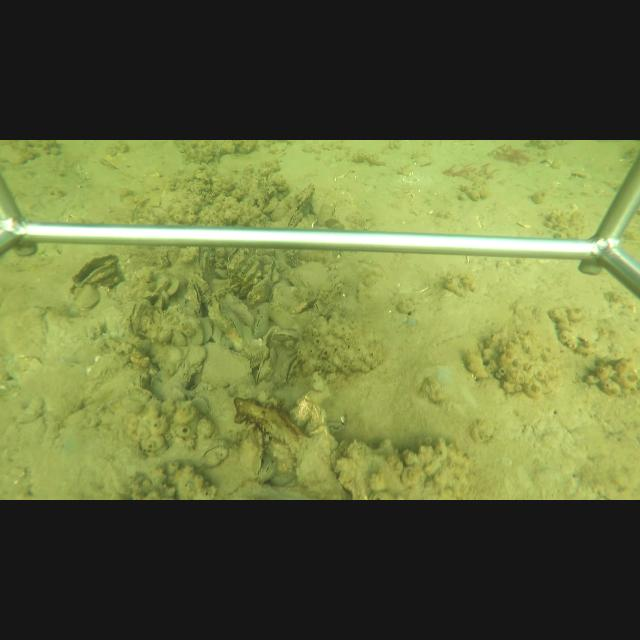Oyster-Closed: (208, 291, 248, 352), (283, 181, 316, 228), (182, 273, 205, 318), (330, 199, 360, 226)
Oyster-Open: (68, 253, 125, 289), (282, 352, 303, 387)
